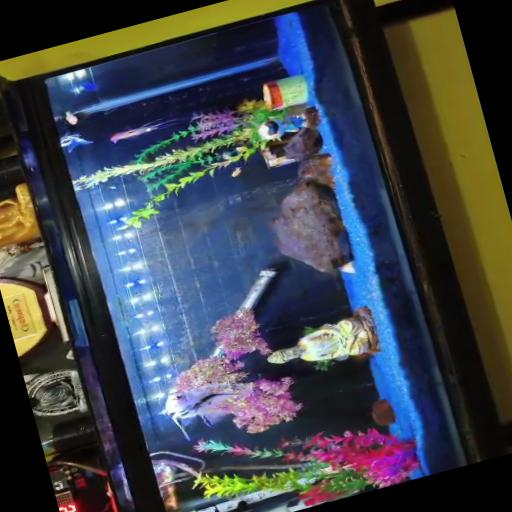Fish: (165, 384, 236, 440), (110, 115, 176, 142), (61, 134, 93, 151), (79, 82, 96, 92), (66, 111, 78, 124), (231, 167, 242, 177)
